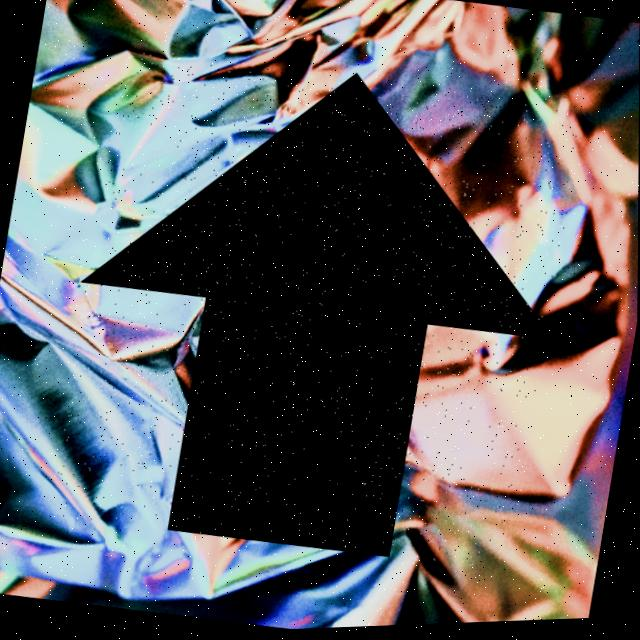UP: (88, 79, 547, 559)
